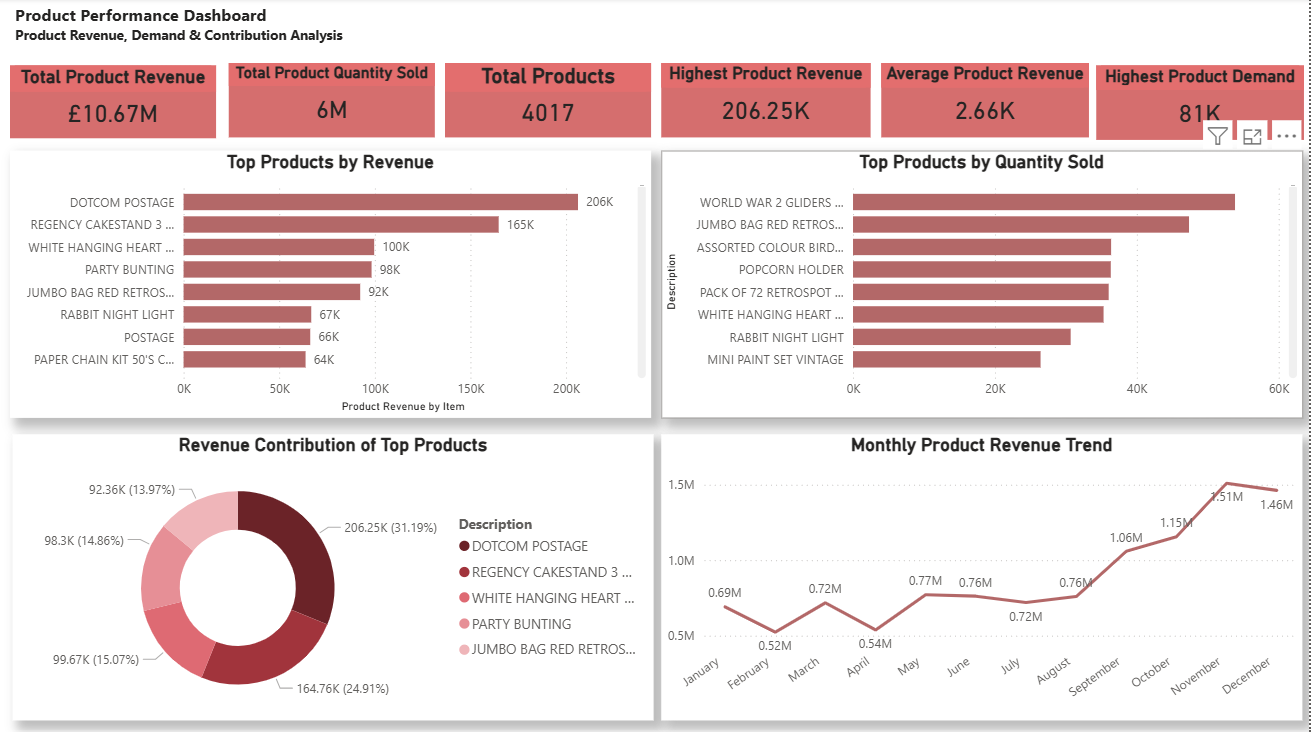

The page's visual inventory and layout, read from the dashboard file:
{"tool":"powerbi","page":{"name":"Page 2","canvas":[1280,720],"ordinal":1},"visuals":[{"type":"textbox","box":[9.8,0,845,64.8],"z":0},{"type":"card","title":"Total Product Revenue","fields":{"Values":["online_retail_clean.Product Revenue"]},"box":[10,65.4,202,71.1],"z":1000},{"type":"card","title":"Total Product Quantity Sold","fields":{"Values":["online_retail_clean.Product Quantity Sold"]},"box":[223.3,64,202,72.5],"z":2000},{"type":"card","title":"Highest Product Revenue","fields":{"Values":["online_retail_clean.Top Product Revenue"]},"box":[647.1,64,204.8,72.5],"z":3000},{"type":"card","title":"Total Products","fields":{"Values":["online_retail_clean.Total Products"]},"box":[435.2,64,202,72.5],"z":4000},{"type":"card","title":"Average Product Revenue","fields":{"Values":["online_retail_clean.Average Product Revenue"]},"box":[861.9,64,203.4,72.5],"z":5000},{"type":"card","title":"Highest Product Demand","fields":{"Values":["online_retail_clean.Highest Product Demand"]},"box":[1072.4,65.4,203.4,72.5],"z":6000},{"type":"clusteredBarChart","title":"Top Products by Revenue","fields":{"Category":["online_retail_clean.Description"],"Y":["online_retail_clean.Product Revenue by Item"]},"box":[10,149.3,627.2,261.7],"z":7000},{"type":"clusteredBarChart","title":"Top Products by Quantity Sold","fields":{"Category":["online_retail_clean.Description"],"Y":["online_retail_clean.Product Quantity by Item"]},"box":[647.1,149.3,627.2,261.7],"z":8000},{"type":"donutChart","title":"Revenue Contribution of Top Products","fields":{"Category":["online_retail_clean.Description"],"Y":["online_retail_clean.Product Revenue by Item"]},"box":[12.8,426.7,627.2,280.2],"z":9000},{"type":"lineChart","title":"Monthly Product Revenue Trend","fields":{"Category":["online_retail_clean.InvoiceDate.Variation.Date Hierarchy.Month"],"Y":["online_retail_clean.Product Revenue KPI"]},"box":[647,427,627,280],"z":10000}]}

Visuals, with their boxes in screenshot pixels (x1, y1, x2, y2), scaled from the page's 1280x720 canvas onto the 1311x732 screenshot:
textbox: l=10, t=0, r=876, b=66
"Total Product Revenue" card: l=10, t=66, r=217, b=139
"Total Product Quantity Sold" card: l=229, t=65, r=436, b=139
"Highest Product Revenue" card: l=663, t=65, r=873, b=139
"Total Products" card: l=446, t=65, r=653, b=139
"Average Product Revenue" card: l=883, t=65, r=1091, b=139
"Highest Product Demand" card: l=1098, t=66, r=1307, b=140
"Top Products by Revenue" clusteredBarChart: l=10, t=152, r=653, b=418
"Top Products by Quantity Sold" clusteredBarChart: l=663, t=152, r=1305, b=418
"Revenue Contribution of Top Products" donutChart: l=13, t=434, r=656, b=719
"Monthly Product Revenue Trend" lineChart: l=663, t=434, r=1305, b=719
